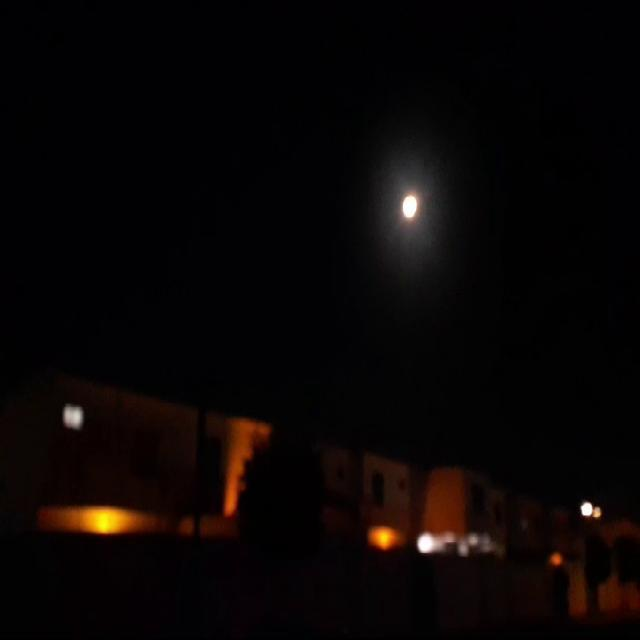moon: (381, 189, 404, 223)
